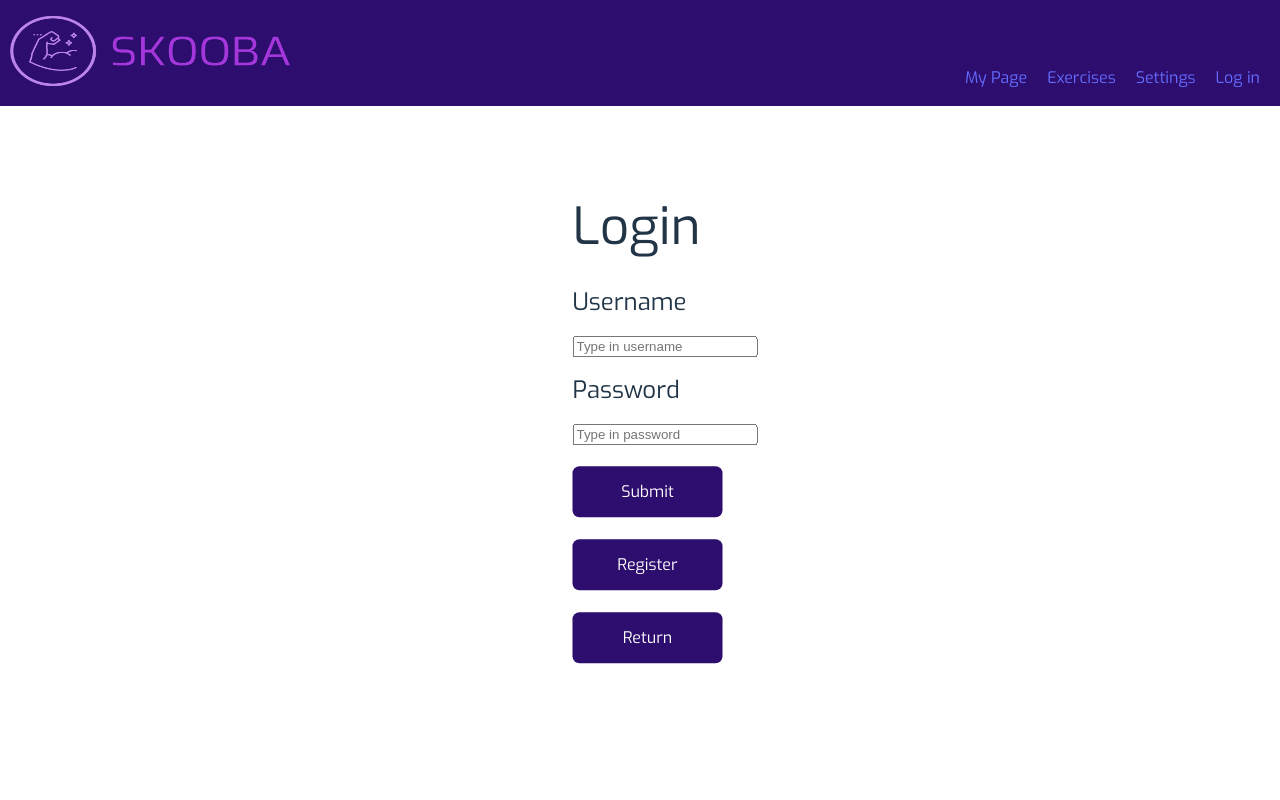
Scenario: Common login behaviour › Wrong password displays error
The image size is (1280, 800).
Expected: the link "Log in" is shown, [1216,67,1260,88]
Type "user" into the field named "username" at x=666, y=347, box [573,336,758,357]
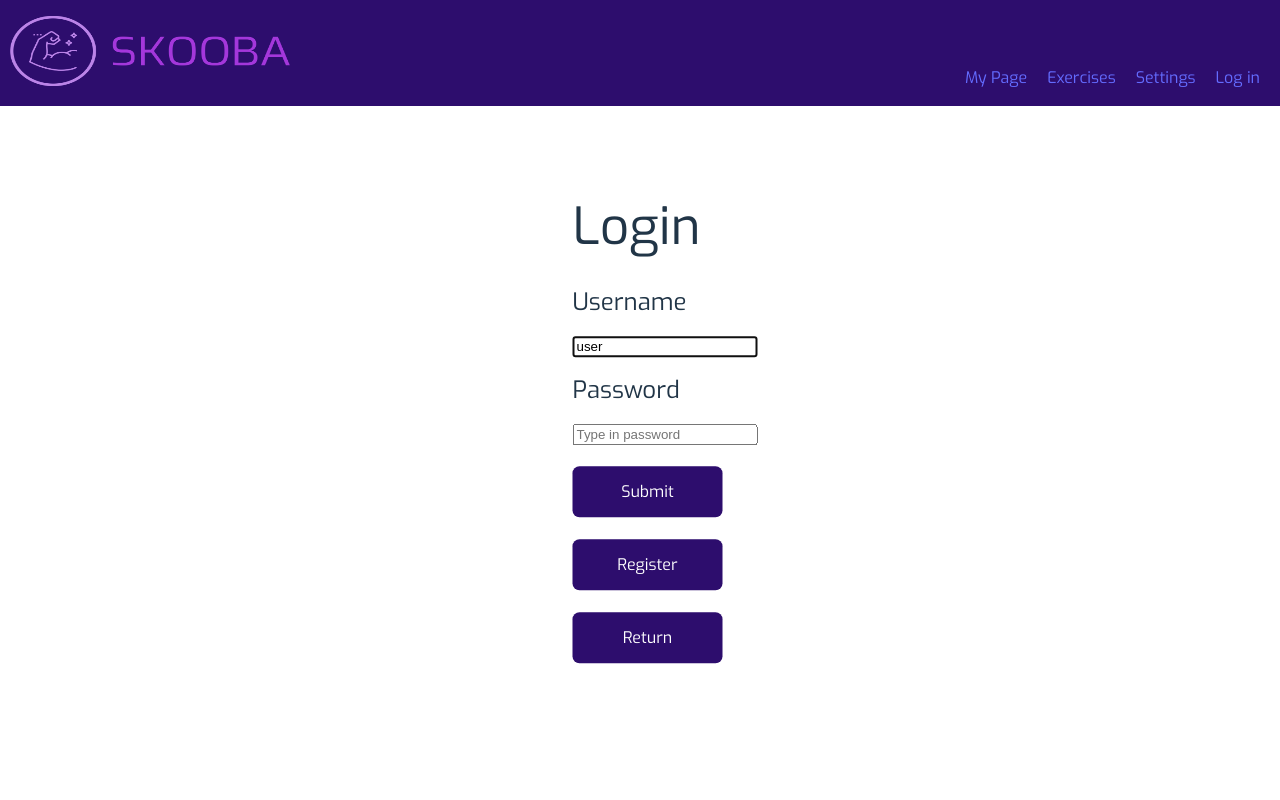
Type "password" into the password field named "password" at x=666, y=435, box [573,424,758,445]
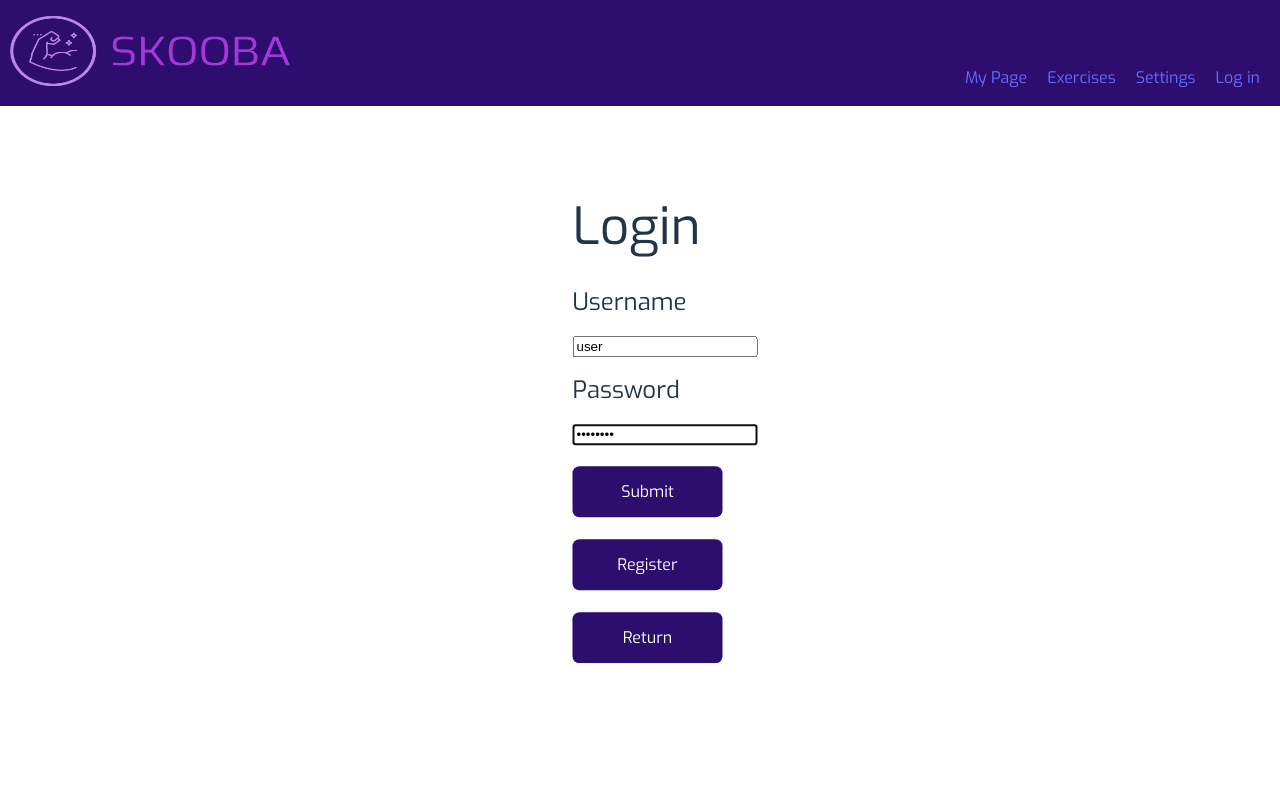
Click the button "Submit" at x=648, y=492, box [573,466,723,517]
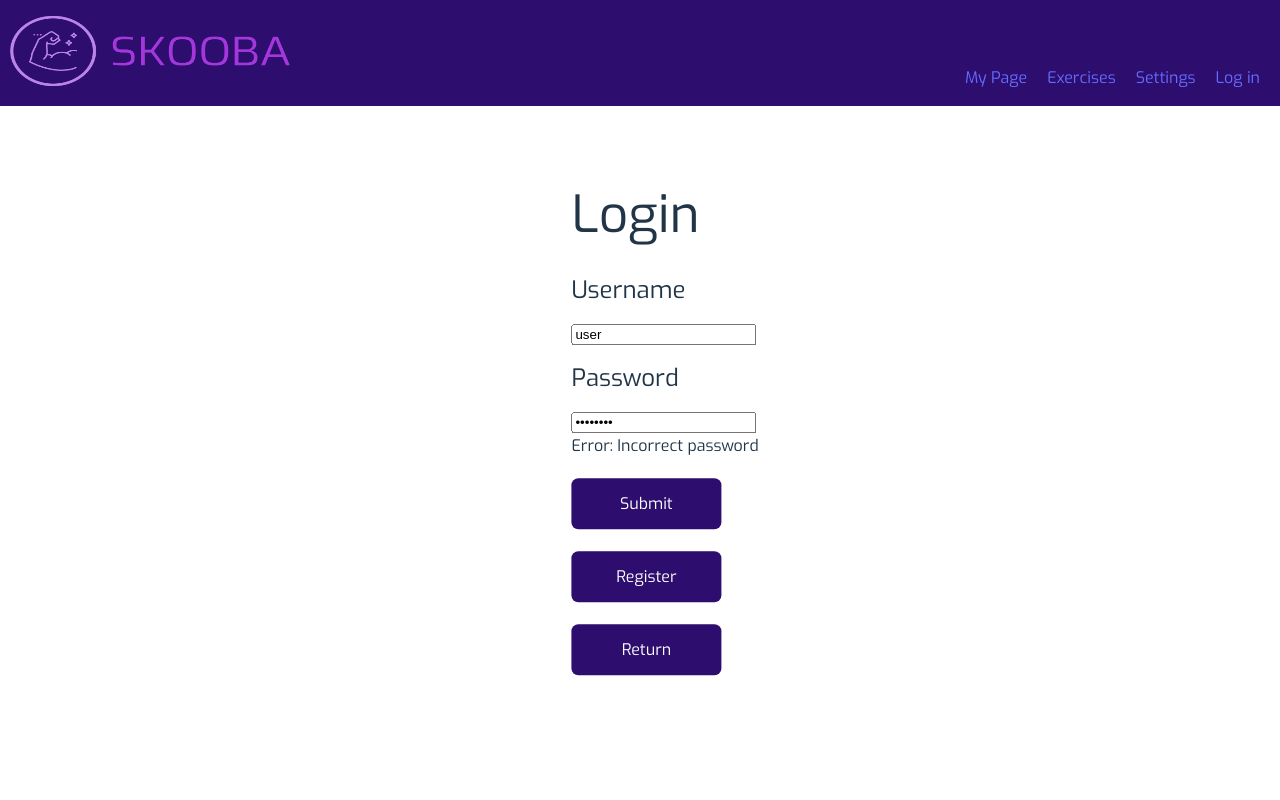
Expected: the link "Log in" is shown, [1216,67,1260,88]
Expected: the text "Error: Incorrect password" is shown, [571,435,758,456]
